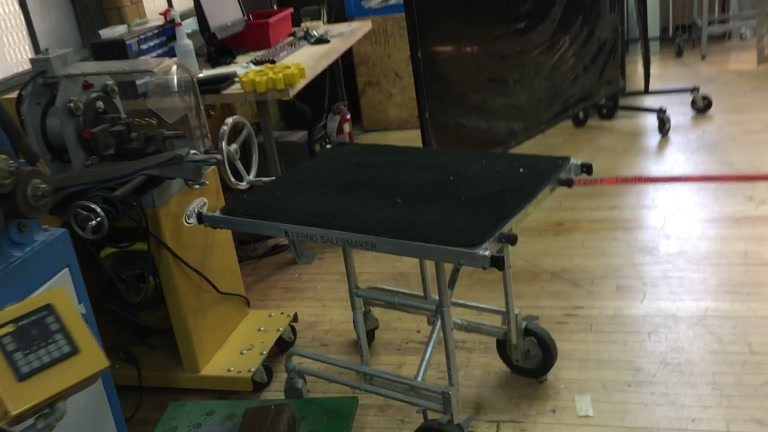gear: (239, 59, 306, 93)
